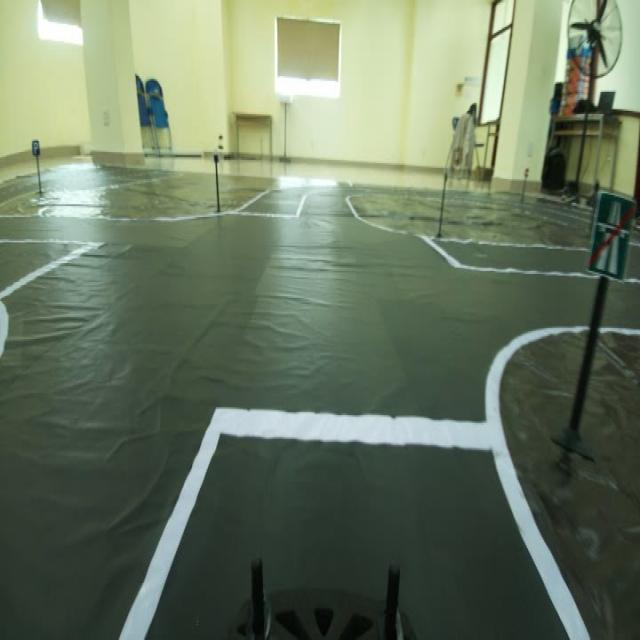highway_exit: (590, 176, 630, 287)
